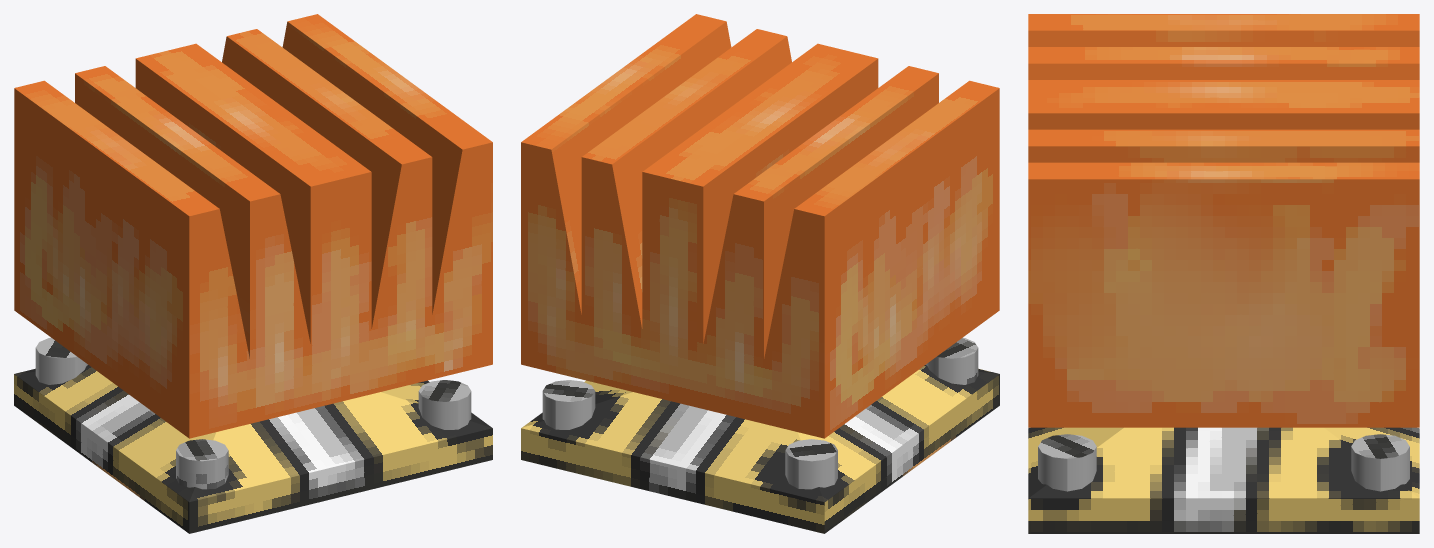
The model's file is Heatsink.glb.
3 views of the same model, side by side, from view 1: azimuth 30°, elevation 25°; view 2: azimuth 150°, elevation 25°; view 3: azimuth 270°, elevation 25° (orthographic). The views are drawn at different scales.
Parts seen in each view (by area): view 1: Heatsink; view 2: Heatsink; view 3: Heatsink.
Boxes of the visible parts, x1,y1,x2,y2 form: Heatsink: (14, 14, 492, 533); Heatsink: (521, 14, 999, 533); Heatsink: (1028, 14, 1419, 533).
Bounding box in the file's own units: 1 × 1 × 1.
1 material, 1 textured.
